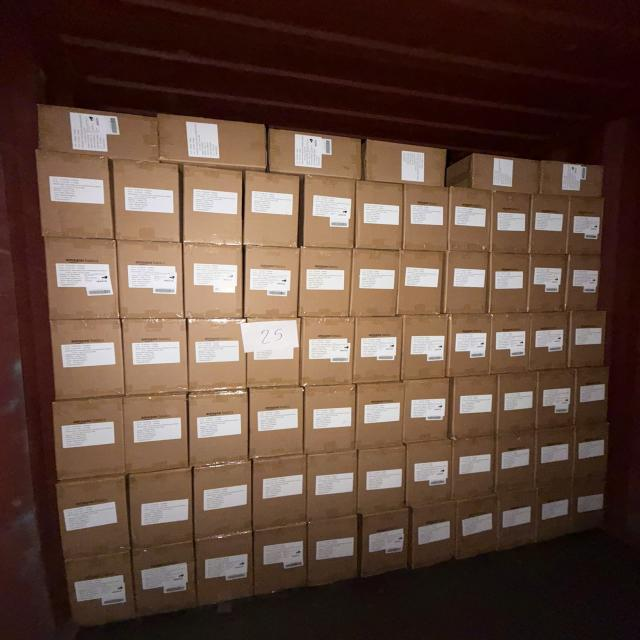Carton: (35, 101, 160, 162), (36, 152, 114, 241), (45, 238, 121, 323), (158, 112, 269, 170), (52, 319, 126, 402), (53, 397, 126, 481), (57, 478, 130, 560), (112, 160, 182, 244), (117, 241, 186, 323), (62, 552, 133, 630), (125, 394, 190, 474), (124, 319, 190, 397), (182, 164, 243, 246), (136, 541, 199, 620), (133, 468, 195, 548), (182, 245, 243, 321), (189, 392, 249, 469), (195, 462, 254, 540), (267, 128, 360, 177), (194, 533, 253, 610), (188, 316, 247, 391), (246, 169, 302, 247), (251, 455, 307, 533), (252, 523, 308, 599), (247, 247, 302, 323), (248, 387, 304, 460), (248, 316, 304, 388), (362, 139, 447, 186), (304, 174, 357, 248), (308, 518, 361, 592), (299, 316, 353, 388), (302, 384, 355, 456), (357, 509, 409, 582), (298, 247, 350, 319), (310, 452, 360, 524), (356, 447, 406, 519), (410, 501, 457, 573), (351, 249, 399, 319), (406, 438, 453, 508), (355, 182, 401, 253), (355, 317, 403, 385), (355, 383, 403, 451), (470, 152, 544, 196), (404, 378, 451, 444), (401, 315, 447, 382), (404, 184, 449, 252), (400, 250, 446, 316), (538, 156, 607, 200), (458, 495, 501, 561), (446, 187, 489, 253), (454, 376, 499, 439), (448, 252, 492, 316), (450, 315, 493, 380), (455, 435, 498, 499), (495, 489, 538, 553), (534, 424, 574, 490), (495, 434, 537, 494), (497, 376, 538, 436), (490, 315, 529, 376), (489, 252, 528, 313), (492, 192, 530, 254), (538, 478, 574, 543), (531, 194, 569, 255), (533, 314, 570, 374), (568, 313, 606, 371), (539, 371, 576, 430), (529, 255, 566, 314), (572, 423, 608, 480), (568, 198, 603, 256), (573, 369, 608, 427), (574, 474, 608, 533), (566, 254, 601, 310)
